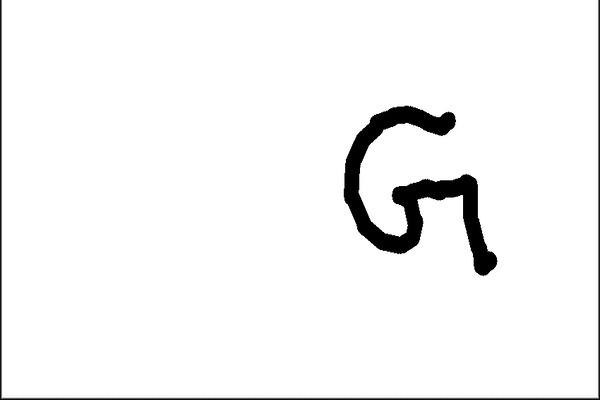G: (339, 97, 501, 280)
